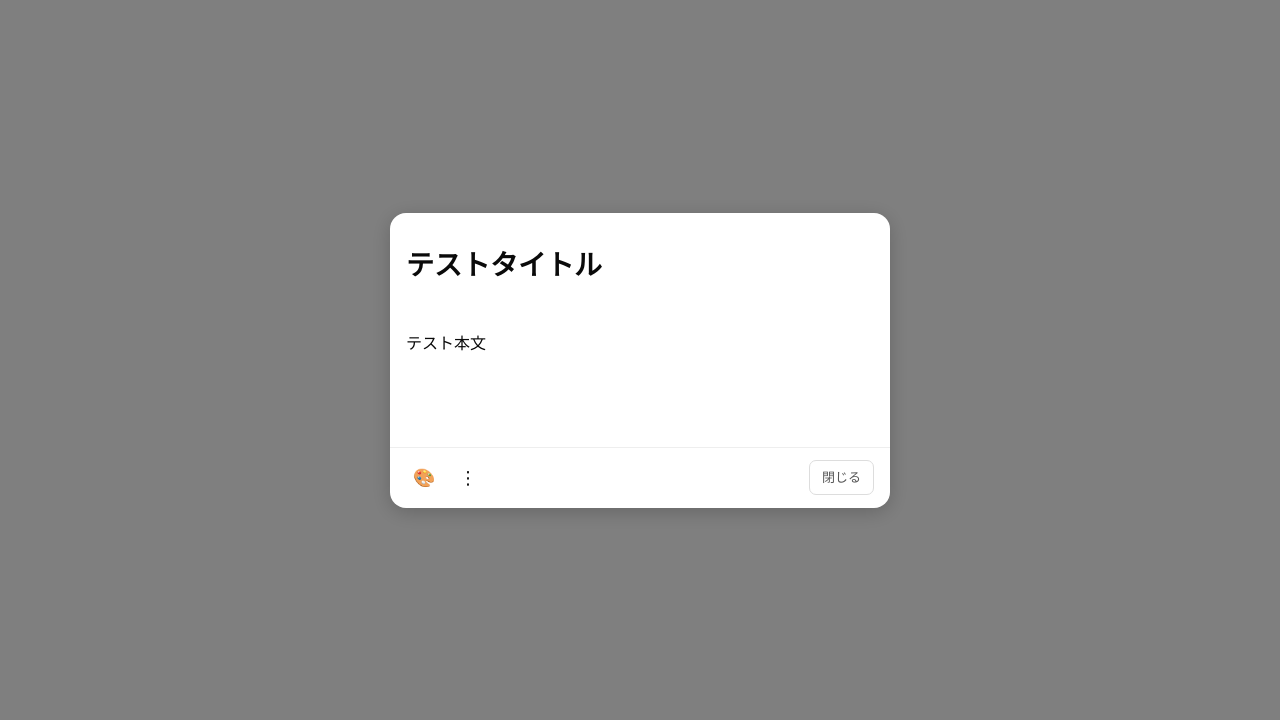
it: NoteDetailModal › メニューからラベルを選ぶと、登録済みの全ラベルが表示される
#  メニューを開く
Click the button "⋮".
click(468, 478)  # box [450,460,486,496]
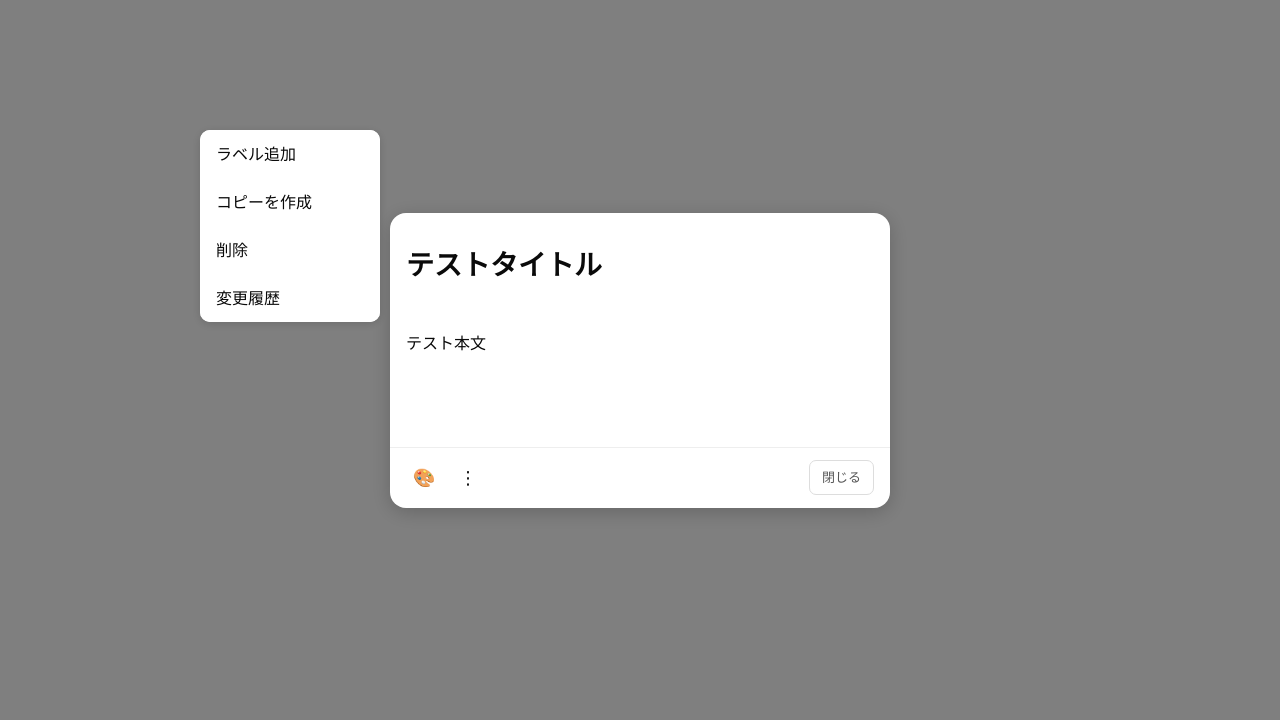
# ラベルパネルを開く
Click the button "ラベル追加".
click(290, 154)  # box [200,130,380,178]
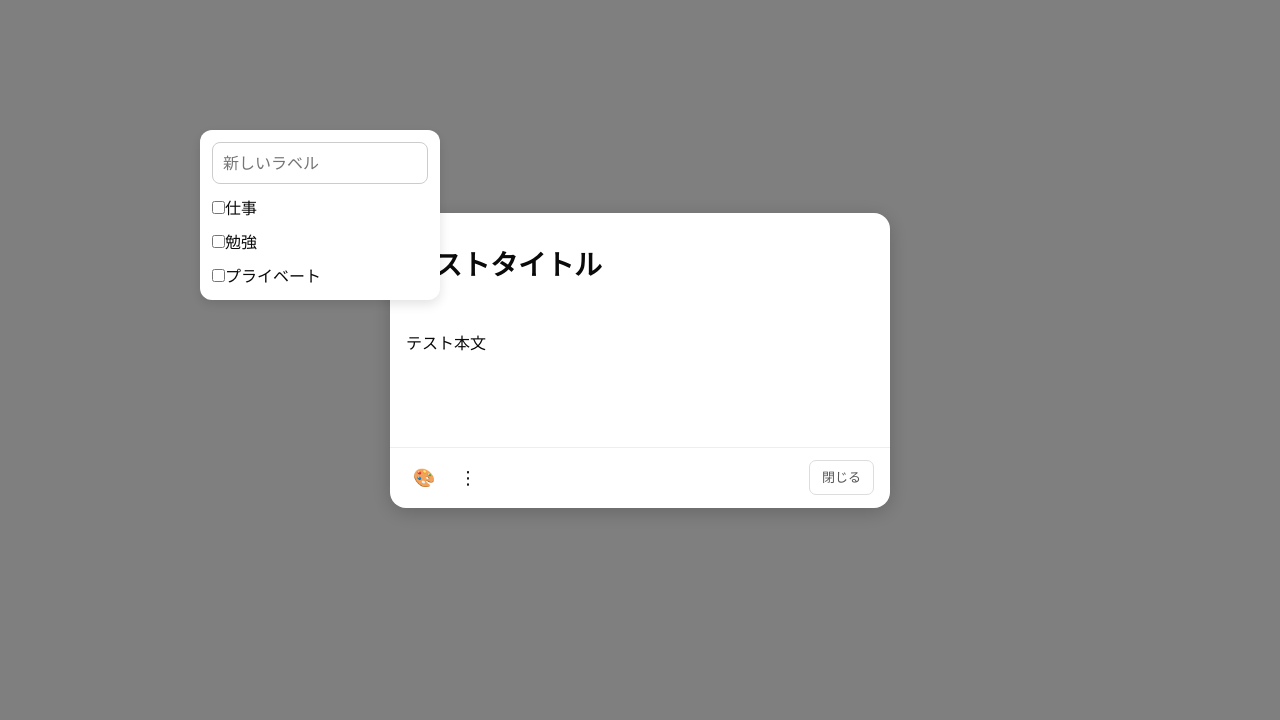
Check: the text "仕事" is shown, box [225,197,257,219]
Check: the text "勉強" is shown, box [225,231,257,253]
Check: the text "プライベート" is shown, box [225,265,321,287]
